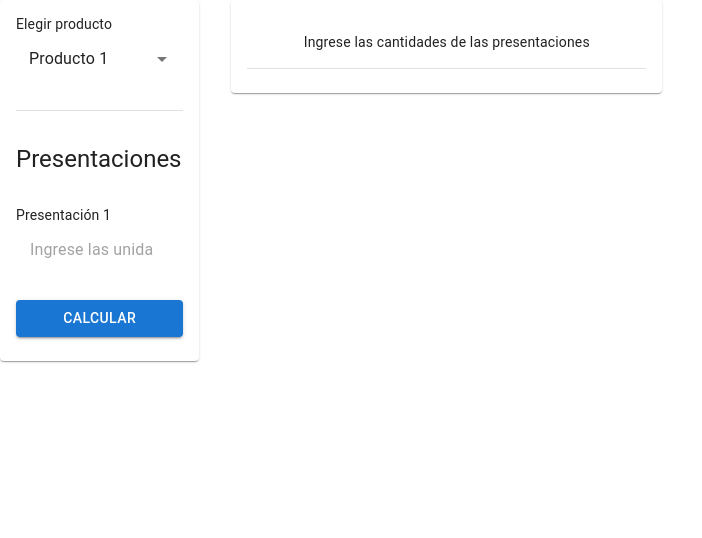
Test: ordenes form - QA-11 feedback de Calcular › con presentación vacía muestra el error y no ejecuta el cálculo
This screenshot has width=702, height=538.
Expected: the number field with placeholder "Ingrese las unidades a producir" is shown, [16,231,183,268]
What coordinates should you click on to do the following:
click the button "Calcular"
I would click on:
 (100, 319)
Its box is [16,300,183,337].
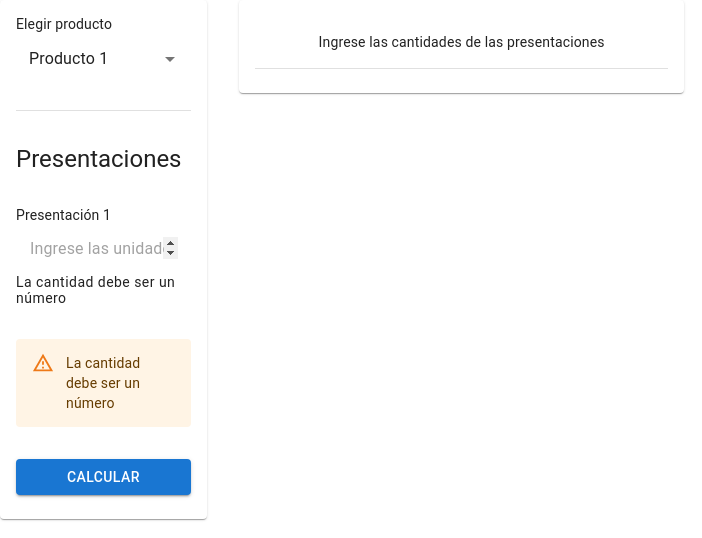
Now the text "La cantidad debe ser un número" is shown 2 times, box [16,274,191,307]; [66,355,140,411]
